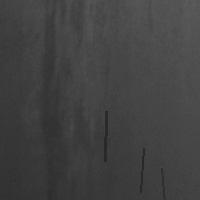inclusion: (39, 1, 92, 197), (138, 146, 145, 194), (103, 109, 108, 163), (159, 166, 166, 200)
